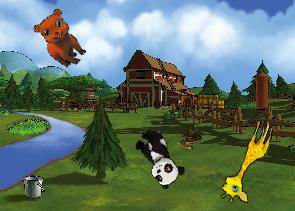bear: (27, 4, 97, 72)
giraffe: (217, 113, 276, 208)
panda: (128, 124, 188, 191)
